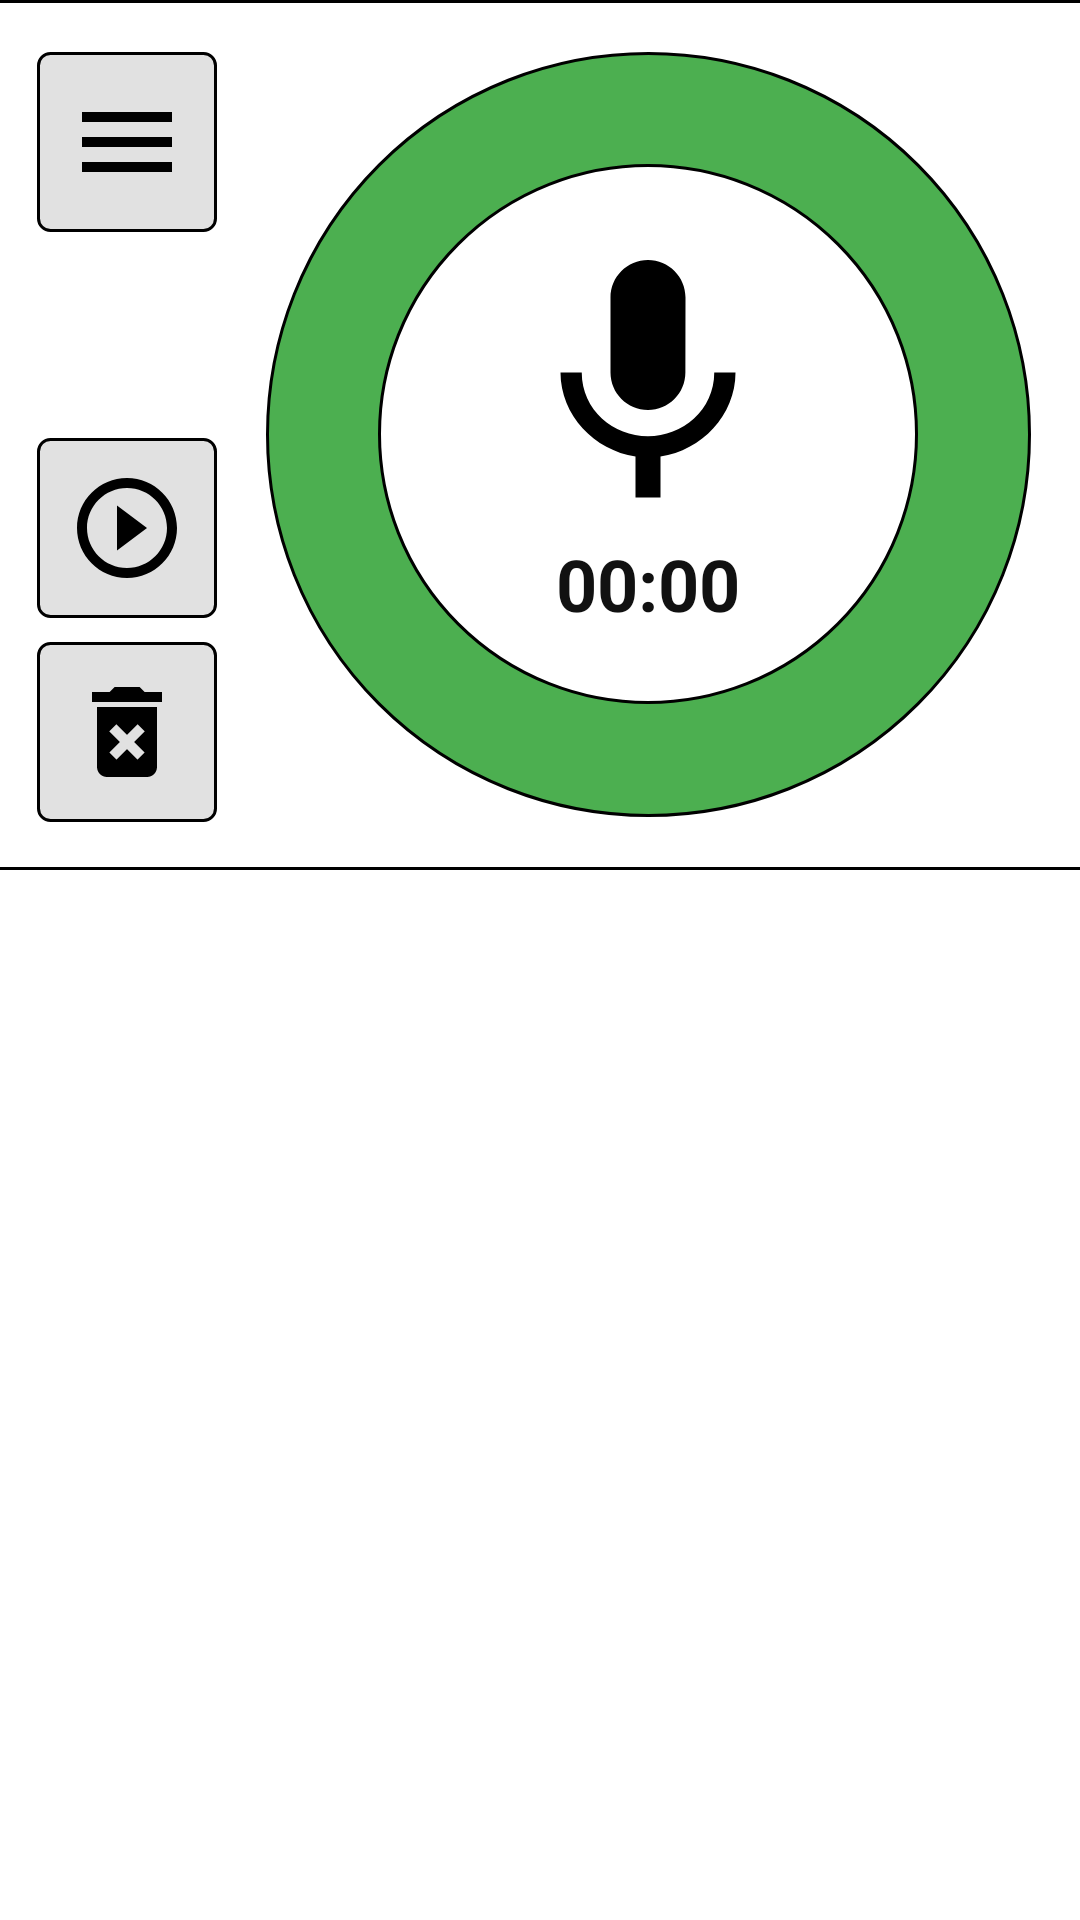

Screen size 1080px×1920px. Icon name, then its center in pixels as point (x, y):
delete forever: point (127, 732)
menu: point (127, 142)
mic: point (648, 379)
play circle: point (127, 528)
